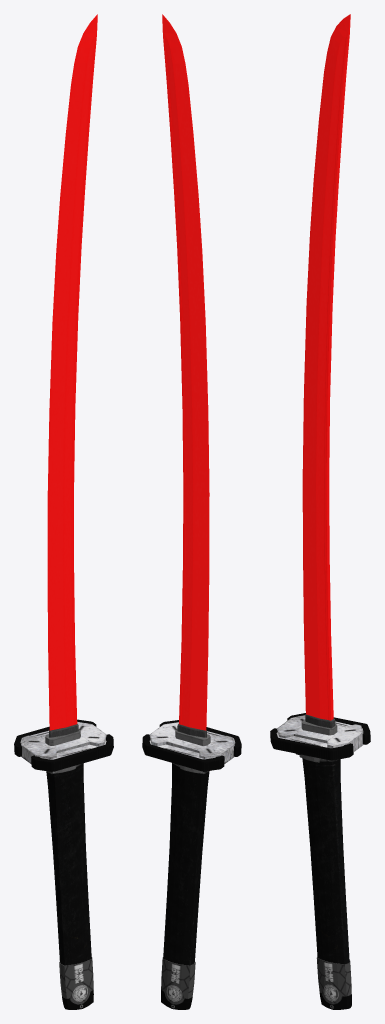
Rendered from Espada_Incriveis.glb.
3 renders of one model, left to right at view 1: azimuth 30°, elevation 25°; view 2: azimuth 150°, elevation 25°; view 3: azimuth 330°, elevation 25°, orthographic.
Visible parts, largest first — view 1: Espada_Incriveis; view 2: Espada_Incriveis; view 3: Espada_Incriveis.
Part boxes in pixels (bbox=[...]): Espada_Incriveis: bbox=[14, 14, 113, 1009]; Espada_Incriveis: bbox=[142, 14, 241, 1009]; Espada_Incriveis: bbox=[270, 14, 370, 1009].
Size of the model in its own units: 0.1099 by 1.31 by 0.0857.
2 materials, 2 textured.
